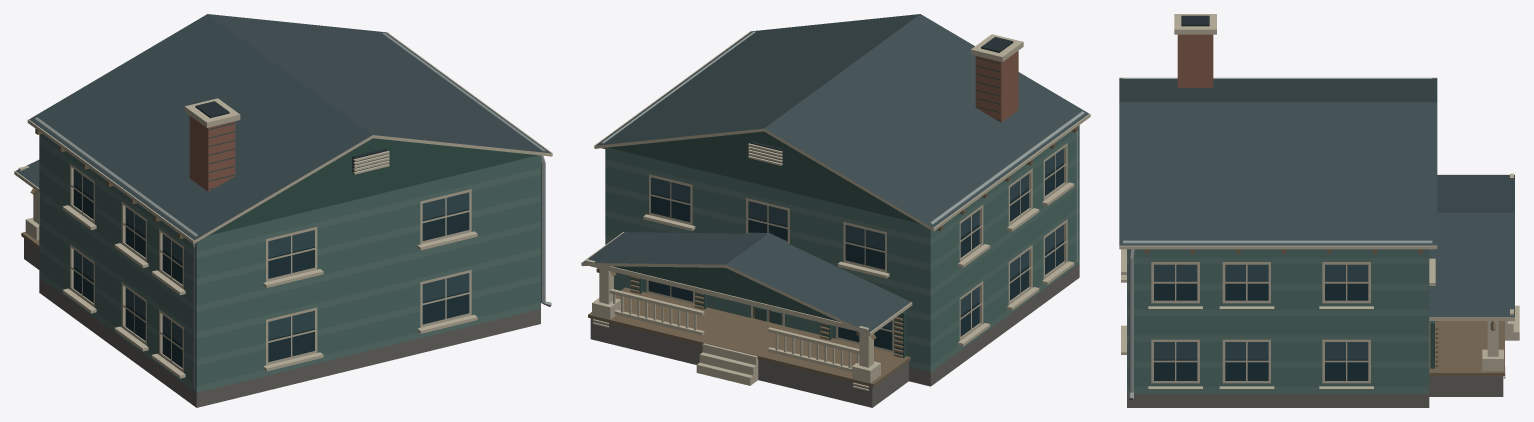
Rendered from house-6k-2floor.glb.
3 renders of one model, left to right at view 1: azimuth 30°, elevation 25°; view 2: azimuth 150°, elevation 25°; view 3: azimuth 270°, elevation 25°, orthographic. The views are drawn at different scales.
Visible parts, largest first — view 1: house-6k-2floor; view 2: house-6k-2floor; view 3: house-6k-2floor.
Part boxes in pixels (left/top/right/bottom): house-6k-2floor: left=14, top=14, right=552, bottom=407; house-6k-2floor: left=581, top=14, right=1090, bottom=407; house-6k-2floor: left=1119, top=14, right=1519, bottom=407.
Bounding box in the file's own units: 14.18 × 9.69 × 14.05.
